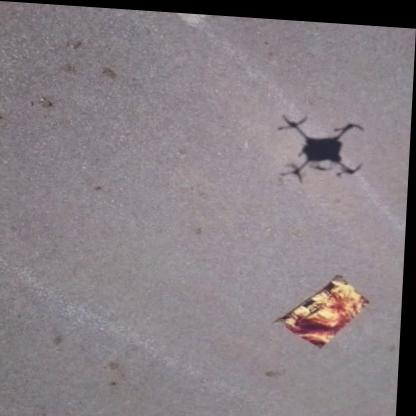fire-poster: (274, 264, 376, 347)
